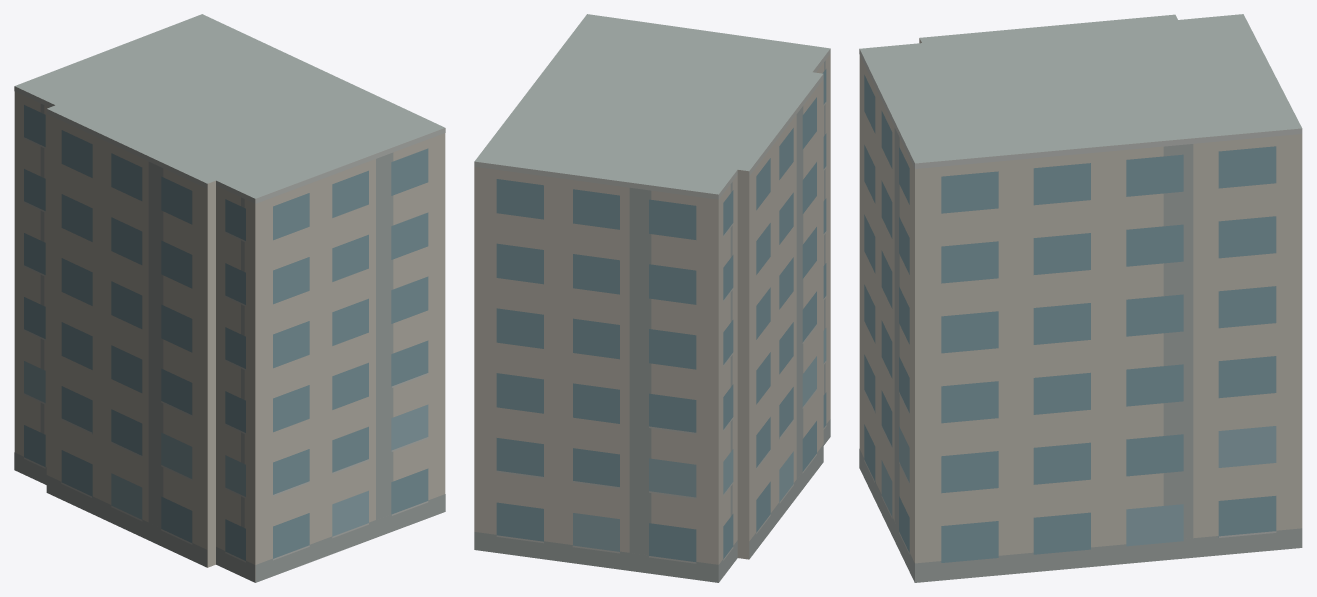
Rendered from survey-upis-32946785.glb.
The picture shows the model from 3 angles, left to right: view 1: azimuth 30°, elevation 25°; view 2: azimuth 150°, elevation 25°; view 3: azimuth 270°, elevation 25°; orthographic projection. The views are drawn at different scales.
Visible parts, largest first — view 1: survey-upis-32946785.tmp; view 2: survey-upis-32946785.tmp; view 3: survey-upis-32946785.tmp.
Part boxes in pixels (<box>): survey-upis-32946785.tmp: <box>14,14,445,582</box>; survey-upis-32946785.tmp: <box>474,14,830,582</box>; survey-upis-32946785.tmp: <box>859,14,1302,582</box>.
Size of the model in its own units: 14 by 18.3 by 17.52.
